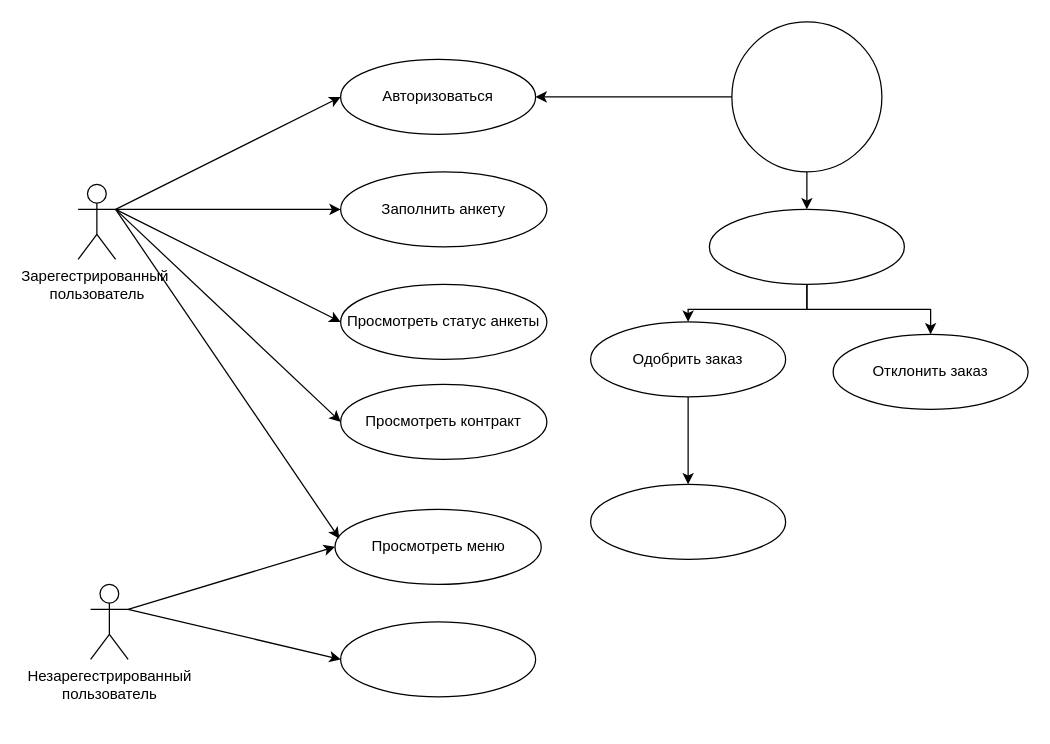
The diagram is 1050 pixels wide and 744 high, and some of its shapes have lost their labels. Each missing label, with the centre of its shape:
"Админ" goes at point (806, 96).
"Зарегестироваться" goes at point (437, 659).
"Просмотр заказов" goes at point (806, 246).
"Создание контракта" goes at point (687, 521).
